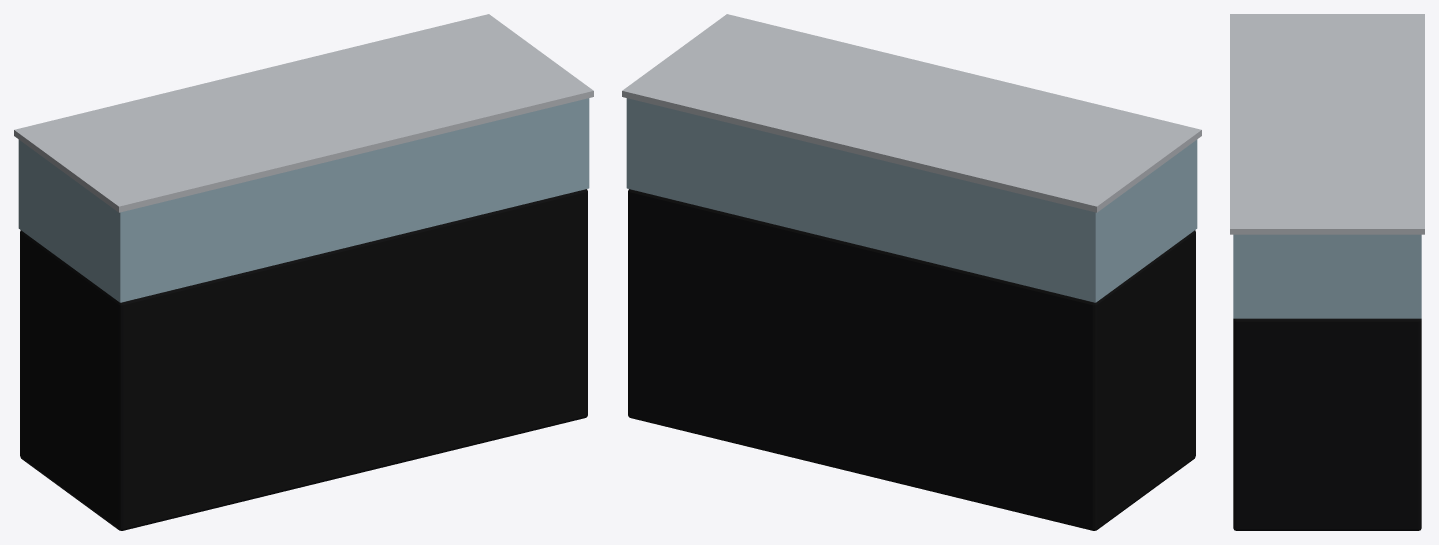
The model's file is display_case.glb.
3 renders of one model, left to right at view 1: azimuth 30°, elevation 25°; view 2: azimuth 150°, elevation 25°; view 3: azimuth 270°, elevation 25°, orthographic. The views are drawn at different scales.
Parts seen in each view (by area): view 1: display_case; view 2: display_case; view 3: display_case.
Part boxes in pixels (x1=…): display_case: x1=14, y1=14, x2=593, y2=530; display_case: x1=622, y1=14, x2=1201, y2=530; display_case: x1=1230, y1=14, x2=1424, y2=530.
Size of the model in its own units: 1.62 by 1.07 by 0.62.
Materials: 1 (1 with a texture image).
